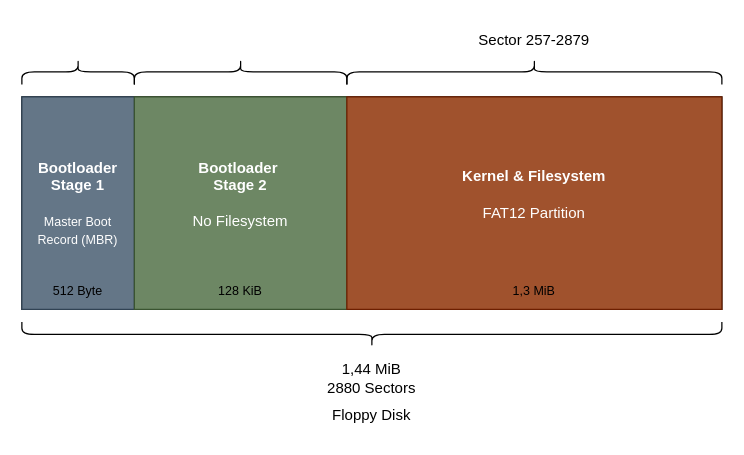
Some shapes in this 744 by 455 pixel diagram are drawn without their labels. Here are the shapes that lost their labels. From the top down, the centre of each, then its label:
At (x=77, y=71): "Sector 0".
At (x=240, y=71): "Sector 1-256".
